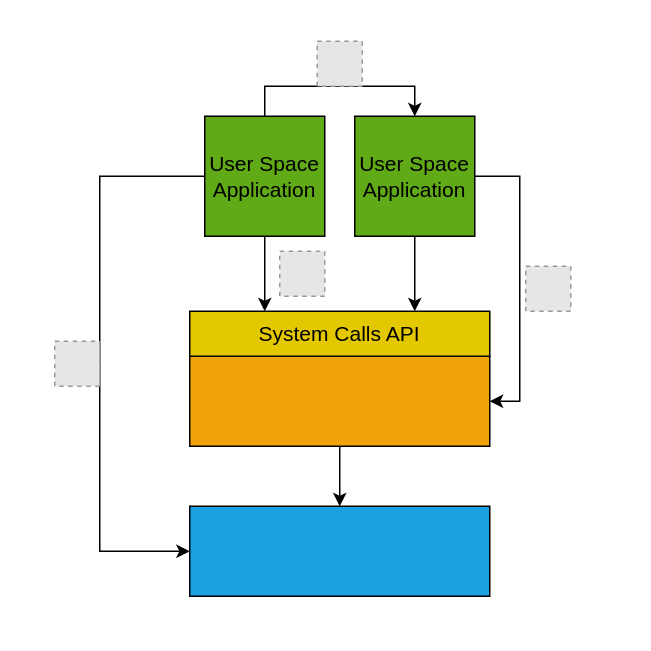
Some shapes in this 651 by 651 pixel diagram are drawn without their labels. Grey dashed boxes stand in for pictures. Each missing label, with the centre of its shape:
"Hardware" belongs at pixel 339 550.
"Kernel" belongs at pixel 339 400.
